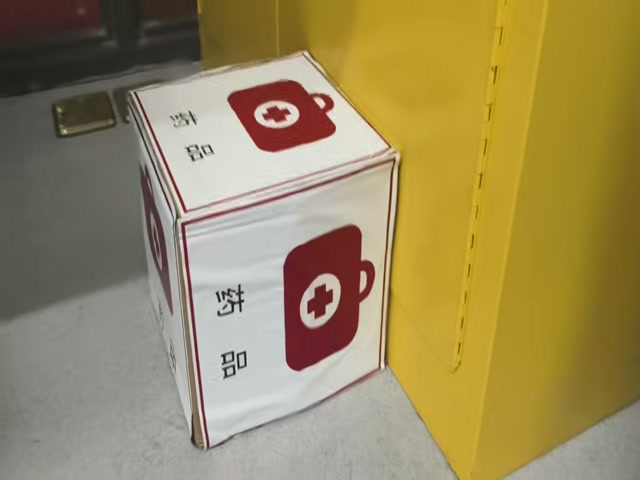Cube_medicine: (129, 53, 390, 220)
